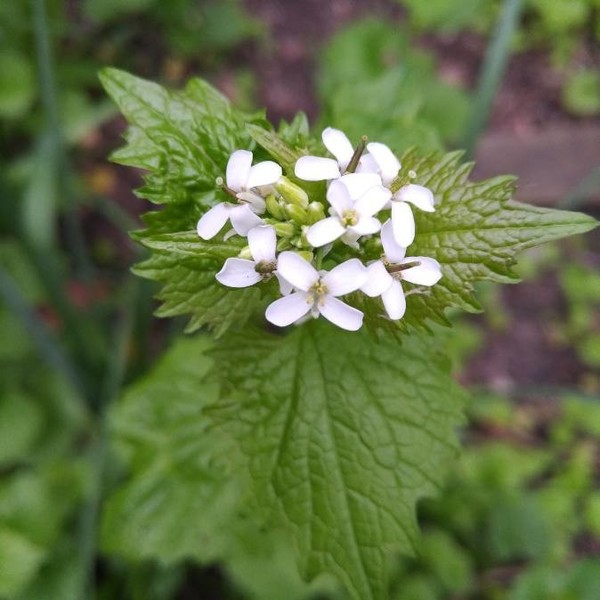obstacle: (112, 52, 551, 577)
